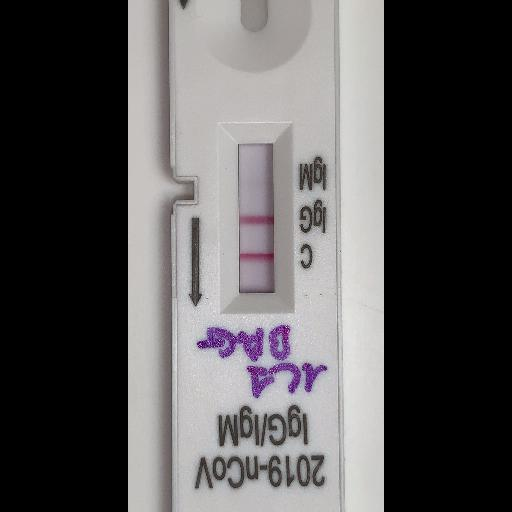Pos: (168, 0, 340, 512)
